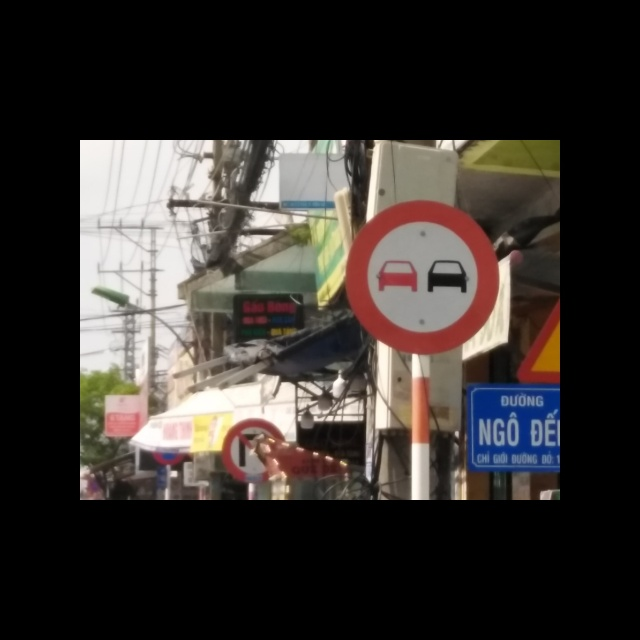Cấm vượt: (344, 195, 502, 353)
